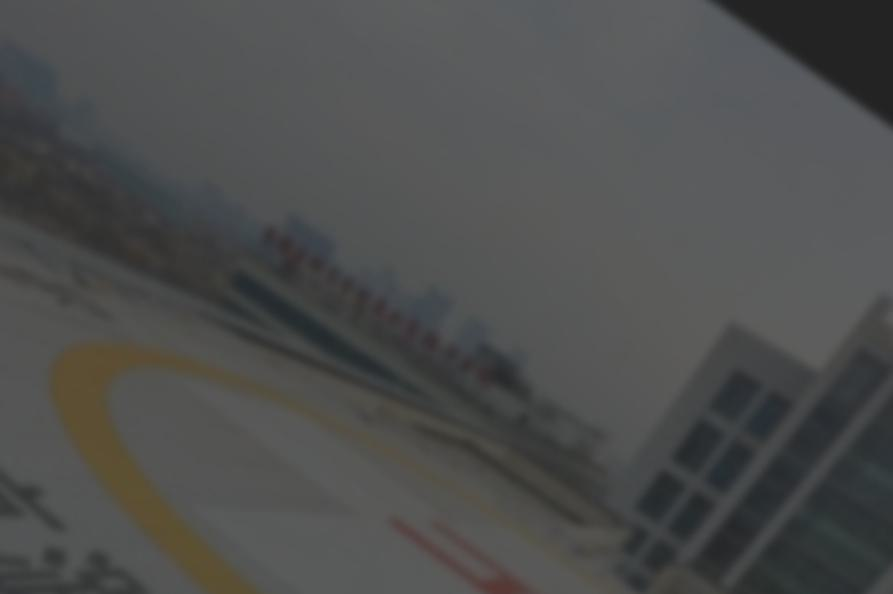Apron: (58, 317, 696, 594)
